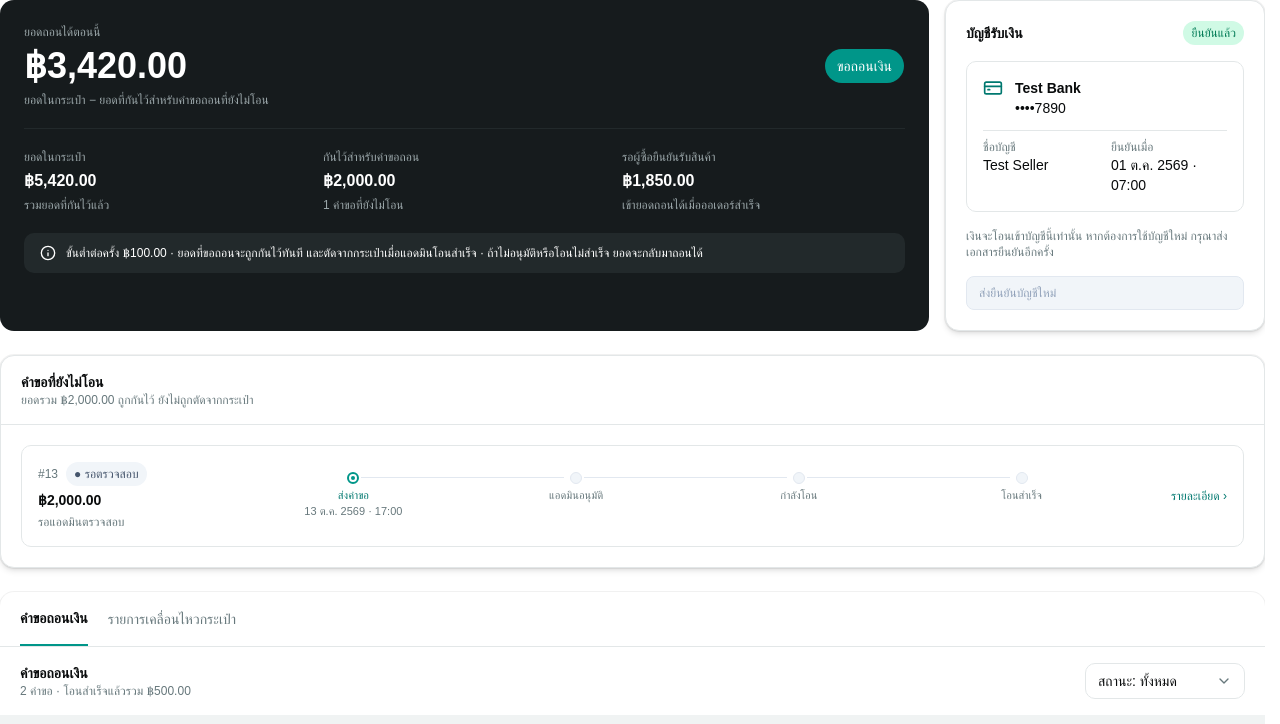
seller payout page › keeps the payout page visible while the next wallet ledger page loads
The width and height of the screenshot is (1280, 724).
Expected: the text "฿3,420.00" is shown, [24,45,187,86]
Click the button "รายการเคลื่อนไหวกระเป๋า": (172, 619) [108,592,236,646]
(page scrolled)
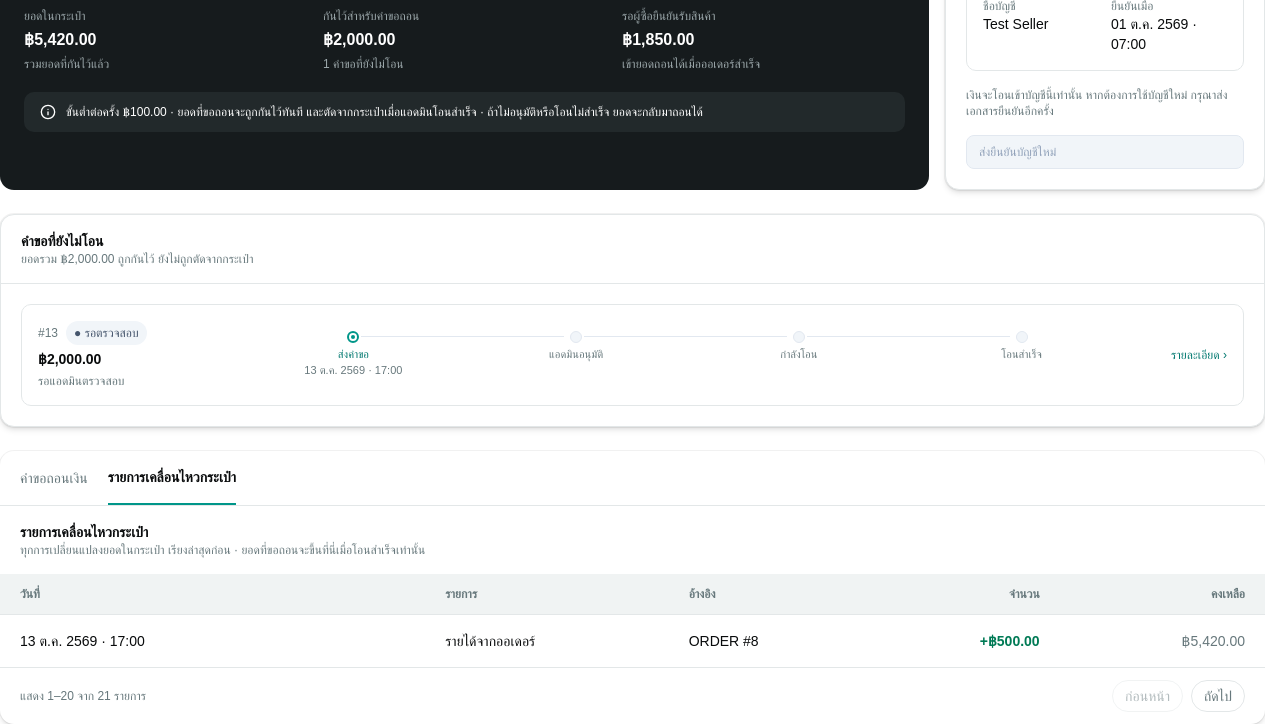
Click the button "ถัดไป": (1218, 696) [1191,680,1245,712]
(page scrolled)
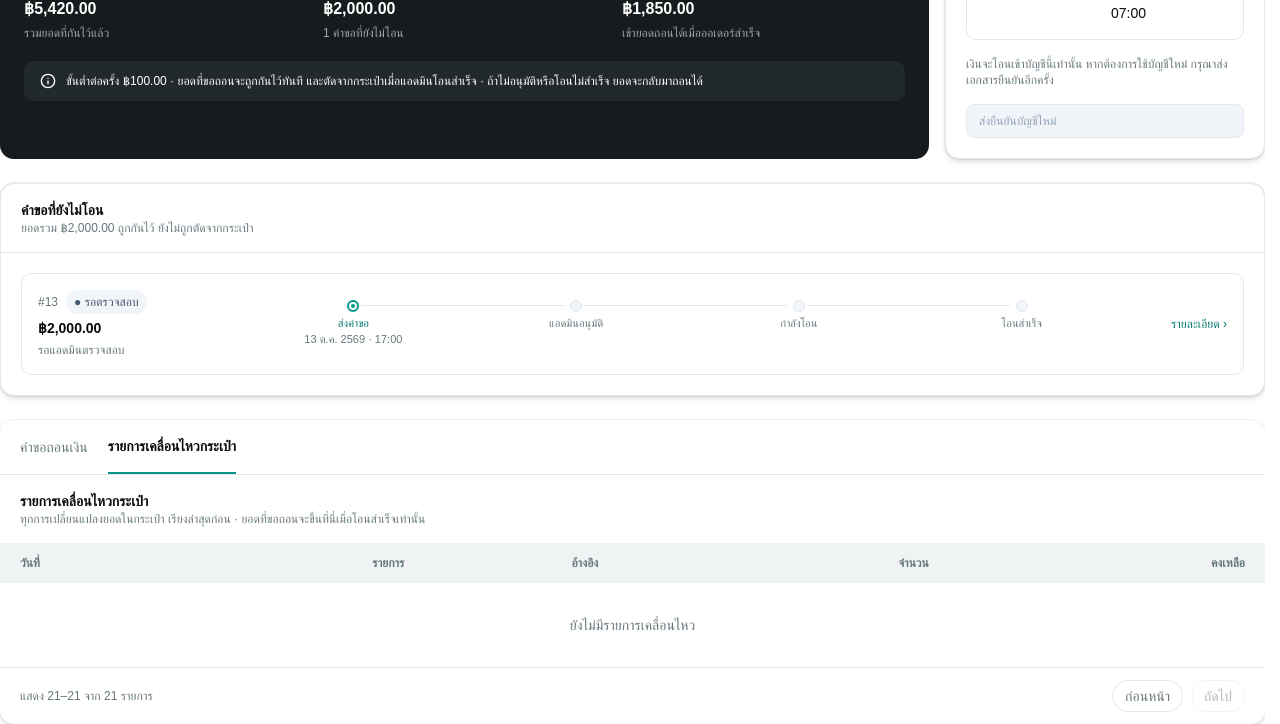
Result: the text "แสดง 21–21 จาก 21 รายการ" is shown at [20,688,153,704]
